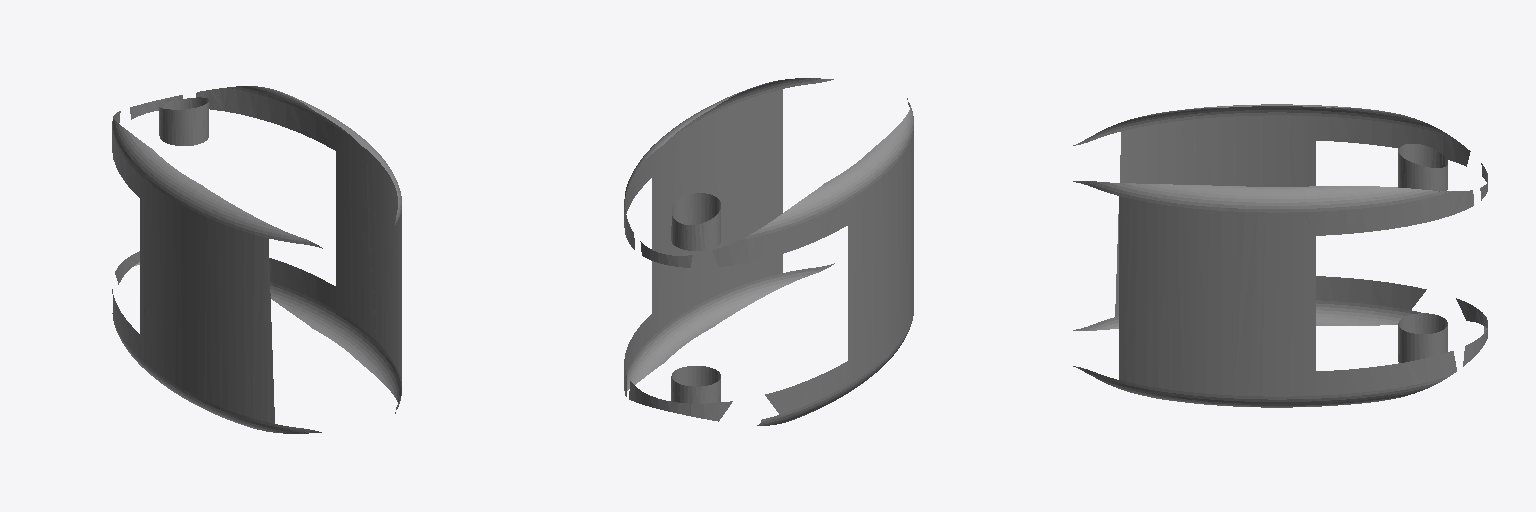
File: test_caudier4.obj
The picture shows the model from 3 angles: view 1: azimuth 30°, elevation 25°; view 2: azimuth 150°, elevation 25°; view 3: azimuth 270°, elevation 25°; orthographic projection.
Visible parts, largest first — view 1: default; view 2: default; view 3: default.
Part boxes in pixels (left/top/right/bottom): default: left=112, top=86, right=401, bottom=433; default: left=624, top=78, right=913, bottom=425; default: left=1073, top=104, right=1487, bottom=407.
Bounding box in the file's own units: 0.2362 × 0.248 × 0.4281.